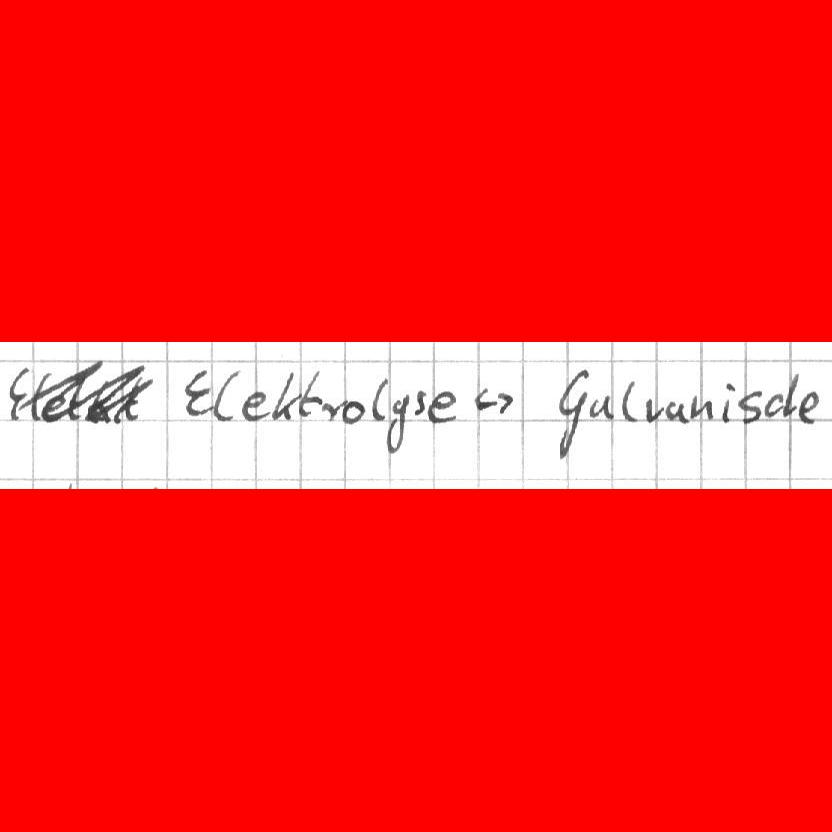Char: (553, 368, 588, 458), (271, 367, 299, 424), (182, 366, 211, 419), (212, 370, 240, 422), (385, 391, 407, 452), (5, 364, 28, 422), (297, 369, 323, 417), (427, 388, 456, 423), (620, 378, 640, 424), (240, 390, 268, 421), (782, 371, 800, 417), (370, 378, 388, 423), (687, 392, 712, 424), (739, 388, 761, 424), (718, 381, 736, 424), (798, 391, 821, 423), (590, 392, 614, 421), (340, 397, 365, 424), (472, 386, 496, 413), (644, 395, 663, 424), (318, 396, 339, 422), (495, 390, 516, 415), (665, 398, 686, 423), (763, 393, 783, 418), (412, 389, 427, 417)
